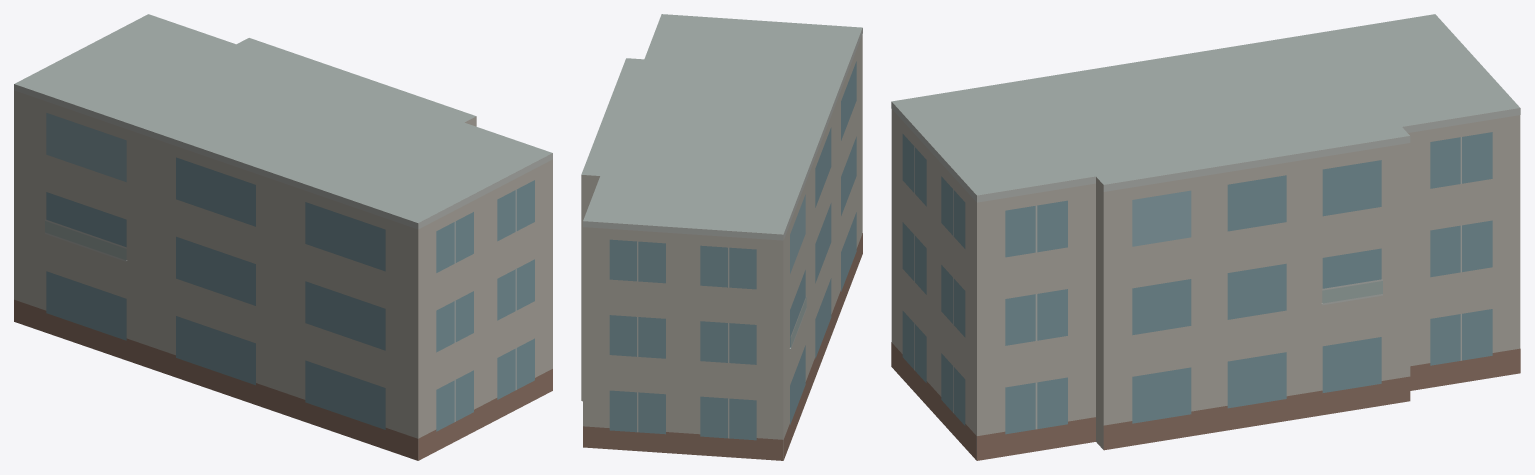
File: survey-upis-32697638.glb
3 views of the same model, side by side, from view 1: azimuth 30°, elevation 25°; view 2: azimuth 150°, elevation 25°; view 3: azimuth 270°, elevation 25° (orthographic). The views are drawn at different scales.
Visible parts, largest first — view 1: survey-upis-32697638.tmp; view 2: survey-upis-32697638.tmp; view 3: survey-upis-32697638.tmp.
Boxes of the visible parts, x1=… form: survey-upis-32697638.tmp: x1=14, y1=14, x2=552, y2=460; survey-upis-32697638.tmp: x1=581, y1=14, x2=862, y2=460; survey-upis-32697638.tmp: x1=891, y1=14, x2=1520, y2=460.
Size of the model in its own units: 13.44 by 9.15 by 19.67.
